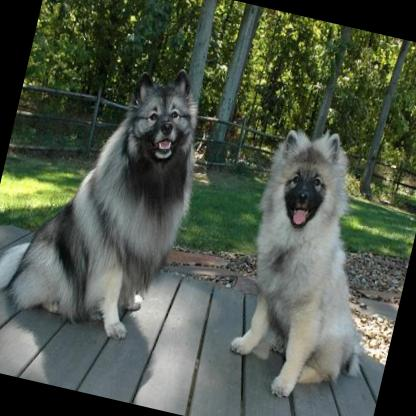keeshond: (0, 35, 217, 346), (214, 118, 413, 414)
